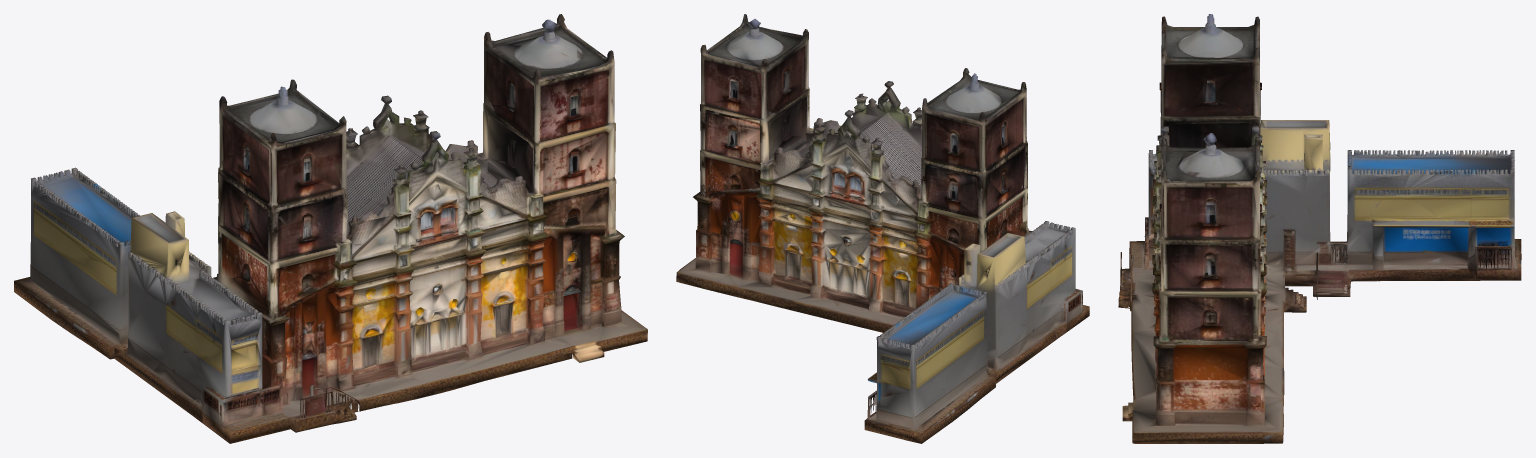
Rendered from mosquee-porto.opt.glb.
3 renders of one model, left to right at view 1: azimuth 30°, elevation 25°; view 2: azimuth 150°, elevation 25°; view 3: azimuth 270°, elevation 25°, orthographic. The views are drawn at different scales.
Visible parts, largest first — view 1: node_0; view 2: node_0; view 3: node_0.
Part boxes in pixels (x1,y1,x2,y2): node_0: (14,14,647,443); node_0: (676,14,1089,443); node_0: (1118,14,1521,443).
Size of the model in its own units: 0.8042 by 0.5519 by 0.7063.
1 material, 1 textured.
